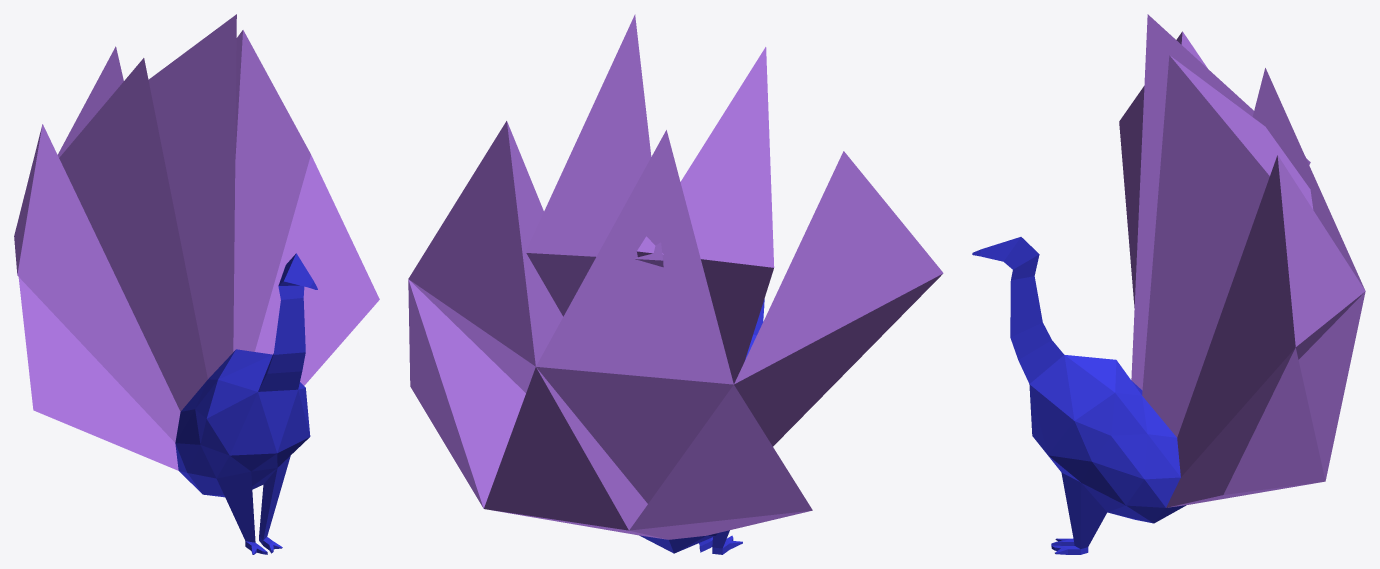
Rendered from peacock.glb.
3 renders of one model, left to right at view 1: azimuth 30°, elevation 25°; view 2: azimuth 150°, elevation 25°; view 3: azimuth 270°, elevation 25°, orthographic. The views are drawn at different scales.
Parts seen in each view (by area): view 1: Icosphere; view 2: Icosphere; view 3: Icosphere.
Part boxes in pixels (x1=…): Icosphere: x1=14, y1=14, x2=379, y2=554; Icosphere: x1=408, y1=14, x2=943, y2=554; Icosphere: x1=972, y1=14, x2=1365, y2=554.
Bounding box in the file's own units: 8.13 × 9.28 × 6.53.
